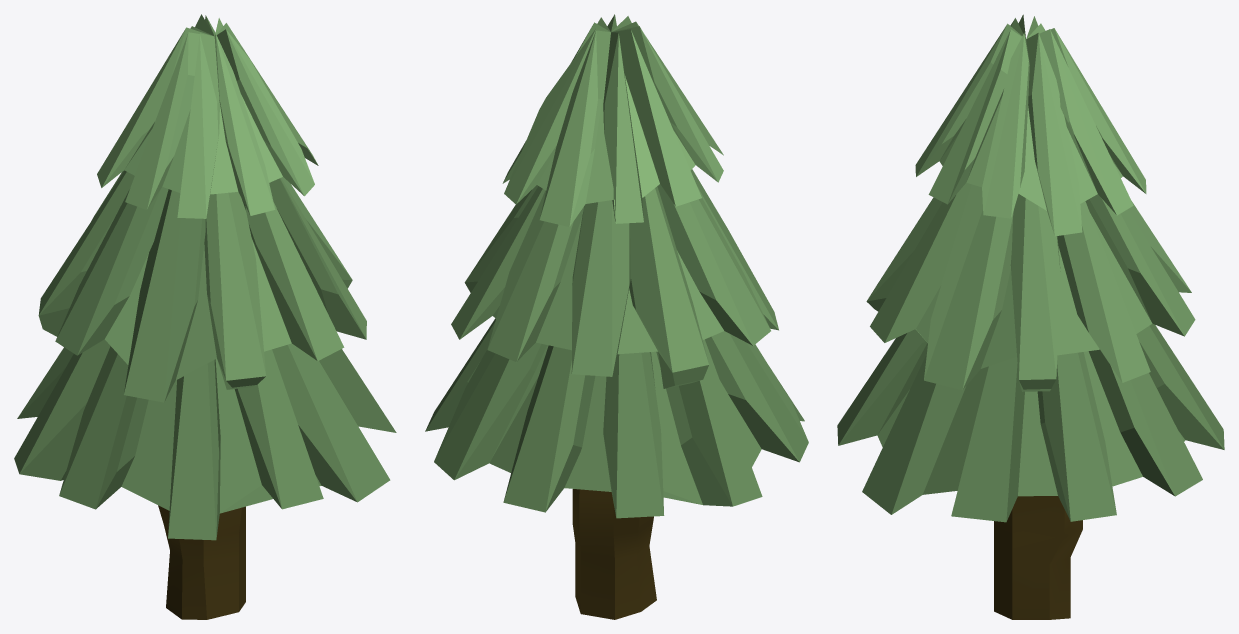
File: stylised_tree.glb
3 views of the same model, side by side, from view 1: azimuth 30°, elevation 25°; view 2: azimuth 150°, elevation 25°; view 3: azimuth 270°, elevation 25° (orthographic).
Visible parts, largest first — view 1: pCone3, pCone2, pCone1, pCube1; view 2: pCone3, pCone2, pCone1, pCube1; view 3: pCone3, pCone2, pCone1, pCube1.
Boxes of the visible parts, x1,y1,x2,y2 form: pCone3: (14,339,396,540); pCone2: (38,170,366,402); pCone1: (97,14,318,218); pCube1: (158,505,245,619); pCone3: (425,318,808,518); pCone2: (451,169,778,388); pCone1: (502,14,723,226); pCube1: (572,489,656,619); pCone3: (837,323,1224,522); pCone2: (866,183,1195,391); pCone1: (915,14,1146,236); pCube1: (994,496,1082,619).
Size of the model in its own units: 0.0517 by 0.0873 by 0.0522.
